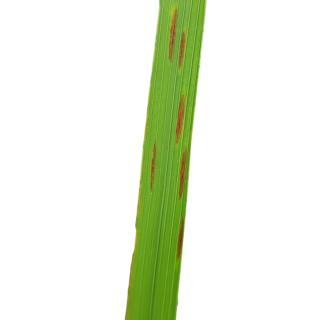Bercak-Cokelat-Sempit: (162, 1, 183, 68), (174, 142, 193, 207), (173, 88, 190, 145), (172, 210, 188, 264), (146, 140, 160, 200), (176, 25, 190, 72)
